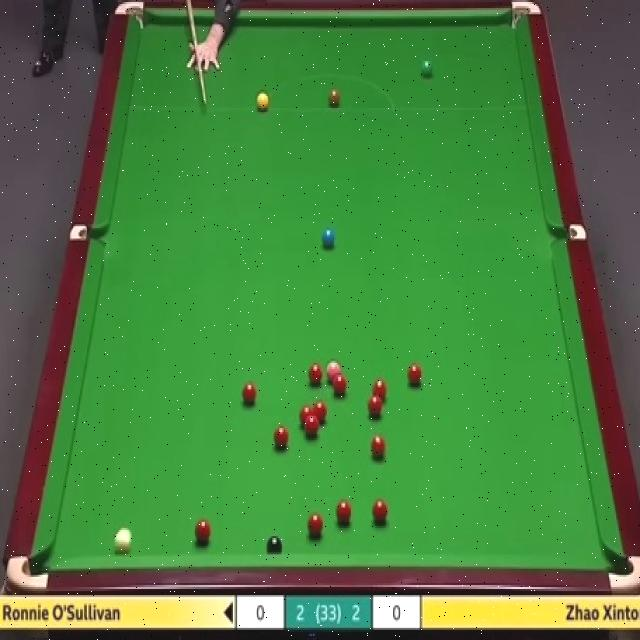black-ball: (266, 536, 283, 555)
blue-ball: (320, 224, 335, 250)
brown-ball: (328, 89, 340, 107)
green-ball: (419, 59, 434, 79)
pink-ball: (328, 361, 342, 384)
red-ball: (406, 363, 424, 392), (194, 518, 212, 544), (372, 498, 388, 525), (336, 500, 352, 526), (308, 513, 324, 538), (242, 384, 258, 409), (367, 394, 382, 420), (313, 402, 328, 426), (332, 374, 348, 396), (274, 426, 288, 450), (372, 379, 386, 402), (371, 435, 385, 457), (305, 418, 319, 438), (300, 405, 313, 426), (309, 366, 322, 385)
white-ball: (112, 524, 133, 556)
yellow-ball: (255, 91, 269, 111)
